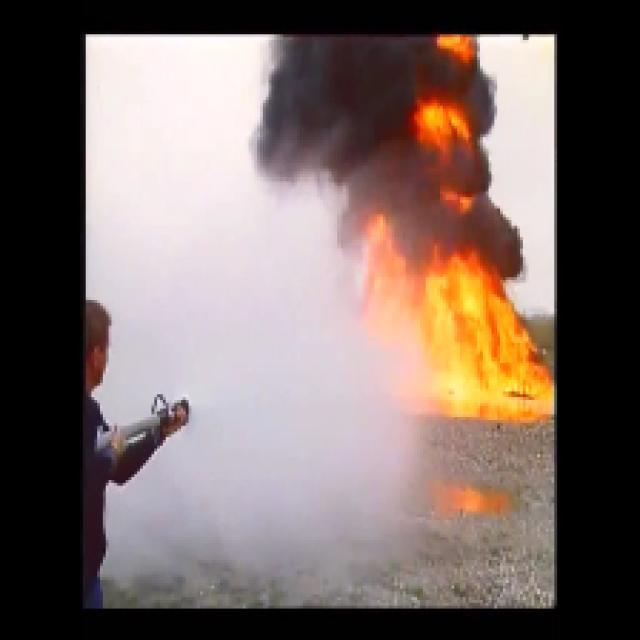Fire: (414, 278, 536, 387)
Smoke: (288, 36, 414, 196)
